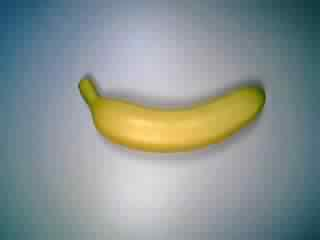banana: (71, 70, 272, 160)
